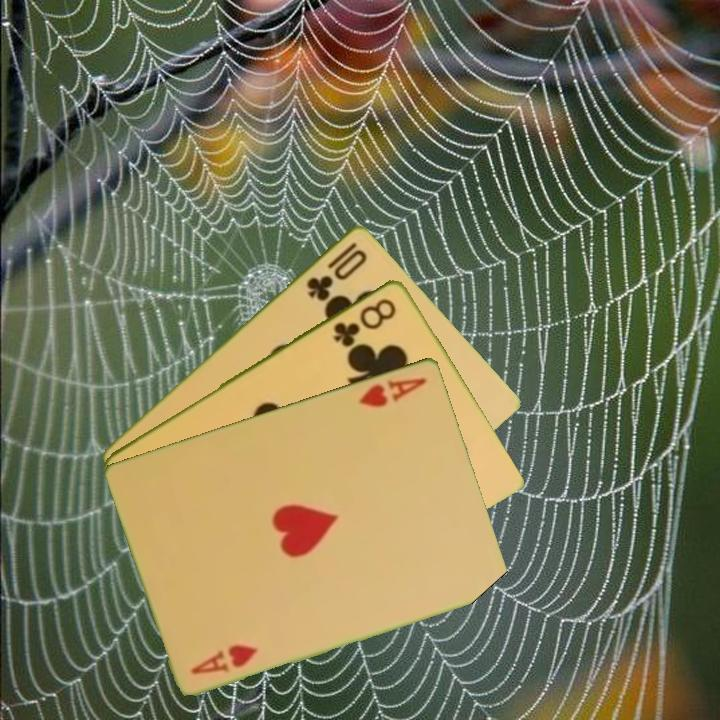10c: (302, 237, 370, 303)
8c: (329, 294, 399, 350)
Ah: (355, 373, 430, 410), (187, 640, 262, 677)
